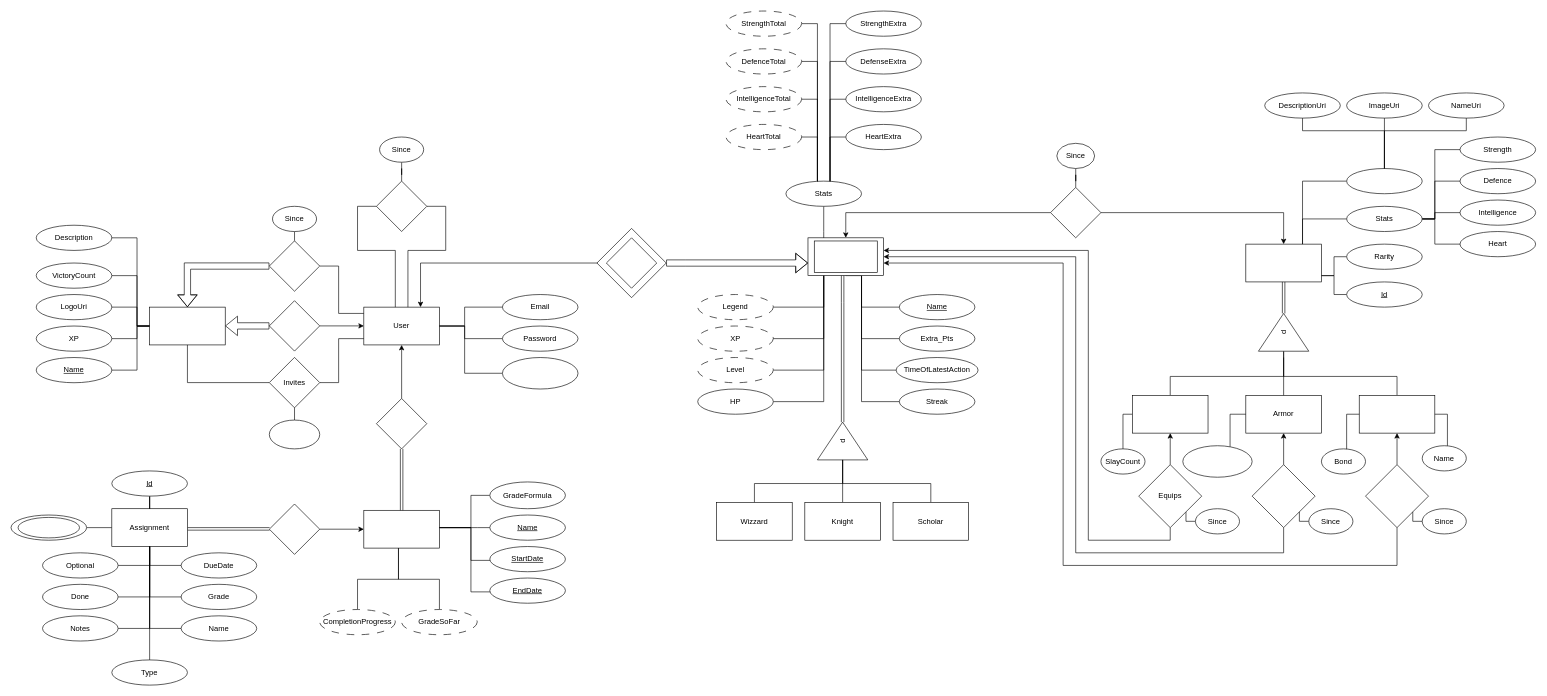
The diagram is 1547 pixels wide and 696 high, and some of its shapes have lost their labels. The shapes that lost their labels are listed below. From the top down, each one's centre as x and y in pixels, then its label:
At (x=1384, y=181): "AssetData".
At (x=401, y=206): "Befriends".
At (x=1075, y=212): "Owns".
At (x=294, y=265): "BelongsTo".
At (x=631, y=262): "PlaysAs".
At (x=845, y=256): "Character".
At (x=1283, y=262): "Item".
At (x=187, y=325): "Clan".
At (x=294, y=325): "Manages".
At (x=540, y=373): "Username".
At (x=294, y=434): "ExpiryDate".
At (x=401, y=423): "Takes".
At (x=1170, y=414): "Weapon".
At (x=1397, y=414): "Pet".
At (x=1217, y=461): "DamageReceived".
At (x=1283, y=496): "Wears".
At (x=1397, y=496): "Accompanies".
At (x=48, y=527): "Tags".
At (x=294, y=528): "Assigns".
At (x=401, y=529): "Class".
